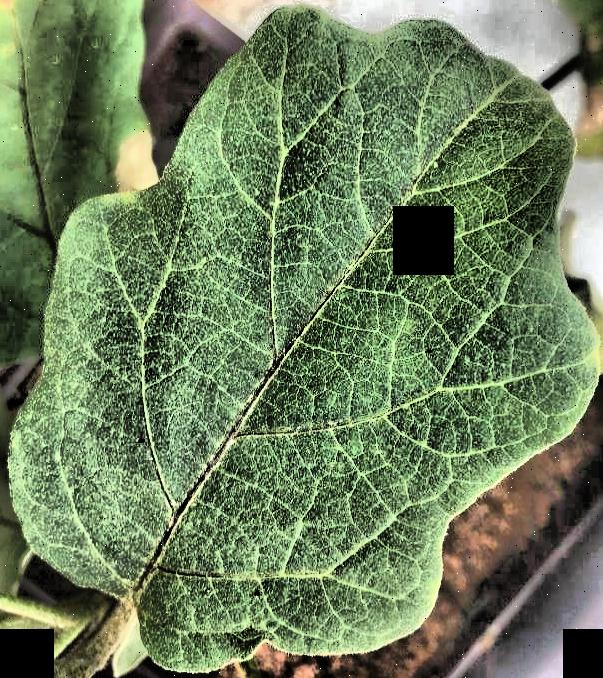HEALTHY: (1, 0, 603, 678)
